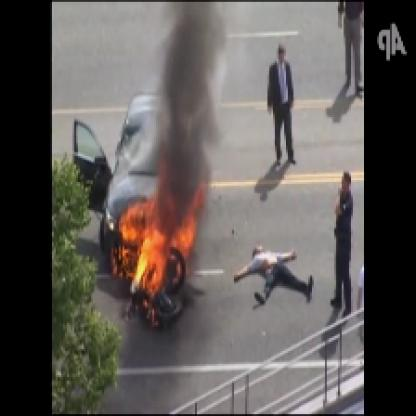Fire: (119, 171, 213, 303)
Smoke: (148, 2, 228, 217)
